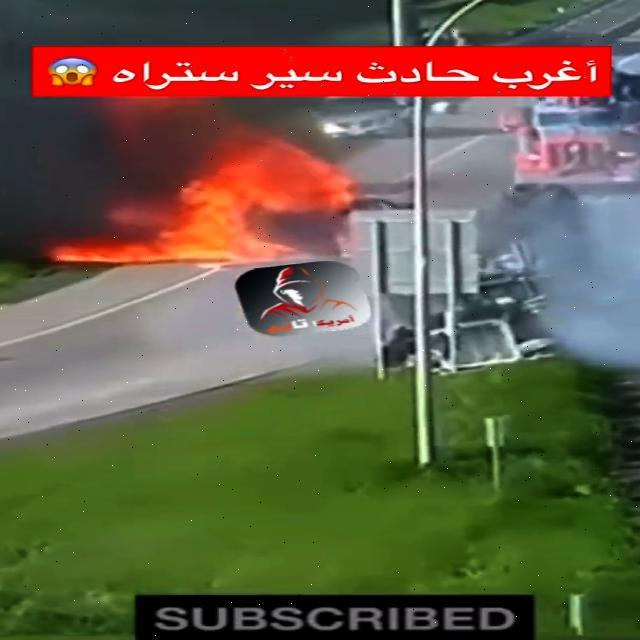accident: (0, 120, 389, 260), (384, 186, 640, 362)
